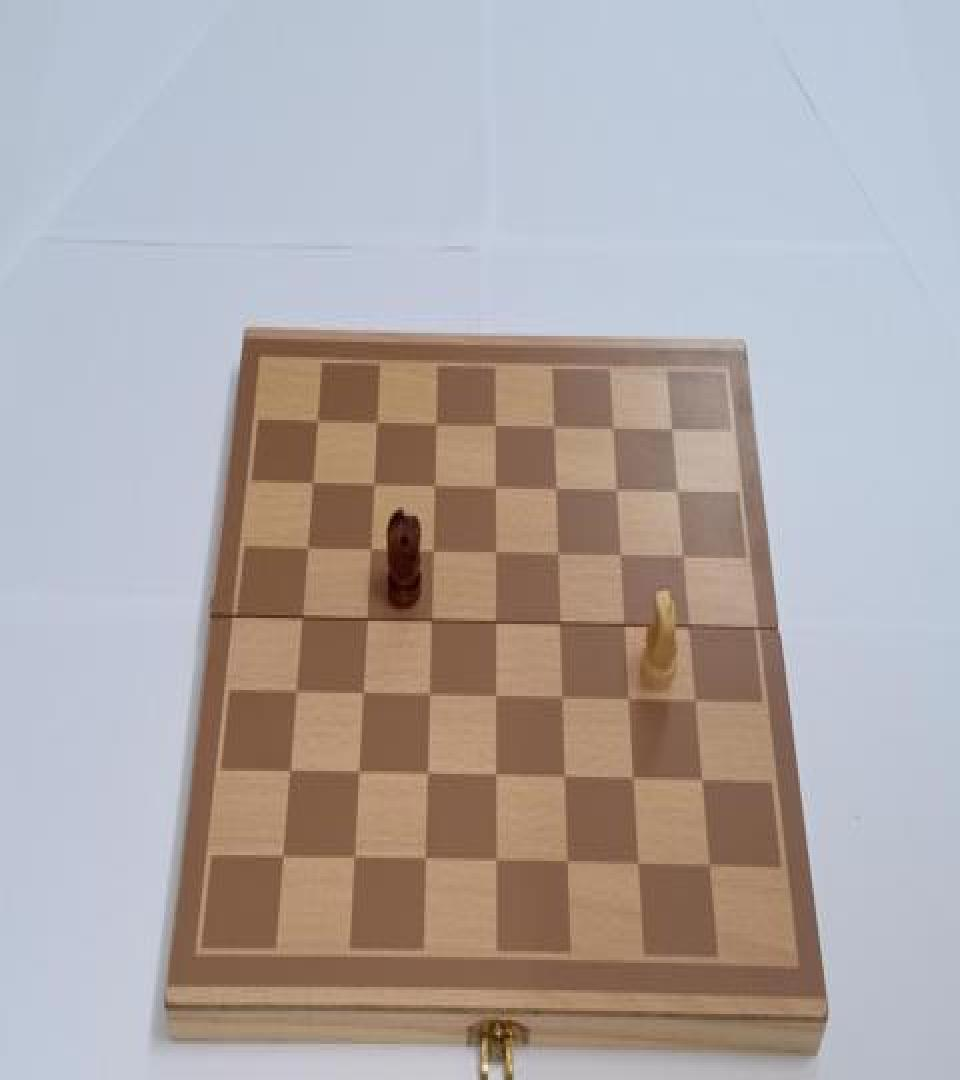xcorner: (311, 406, 329, 434), (420, 760, 438, 788), (489, 472, 507, 500), (489, 760, 507, 788), (547, 412, 565, 440), (306, 468, 324, 495), (300, 534, 318, 561), (295, 603, 313, 630), (288, 678, 306, 705), (274, 843, 292, 870), (371, 408, 389, 435), (367, 470, 385, 497), (360, 604, 378, 631), (351, 759, 369, 786), (346, 844, 364, 871), (428, 471, 446, 498), (424, 606, 442, 633), (422, 681, 440, 708), (418, 844, 436, 871), (489, 411, 507, 438), (489, 537, 507, 564), (489, 681, 507, 708), (489, 846, 507, 873), (549, 474, 567, 501), (551, 538, 569, 565), (553, 609, 571, 636), (555, 683, 573, 710), (558, 762, 576, 789), (560, 846, 578, 873), (606, 414, 624, 441), (613, 540, 631, 567), (617, 610, 635, 637), (621, 684, 639, 711), (664, 415, 682, 442), (669, 477, 687, 504), (681, 610, 699, 637), (701, 849, 719, 876), (282, 758, 300, 784), (363, 536, 381, 562), (355, 680, 373, 706), (430, 410, 448, 436), (426, 536, 444, 562), (489, 608, 507, 634), (609, 476, 627, 502), (626, 764, 644, 790), (631, 848, 649, 874), (675, 542, 693, 568), (687, 686, 705, 712), (694, 764, 712, 790)
